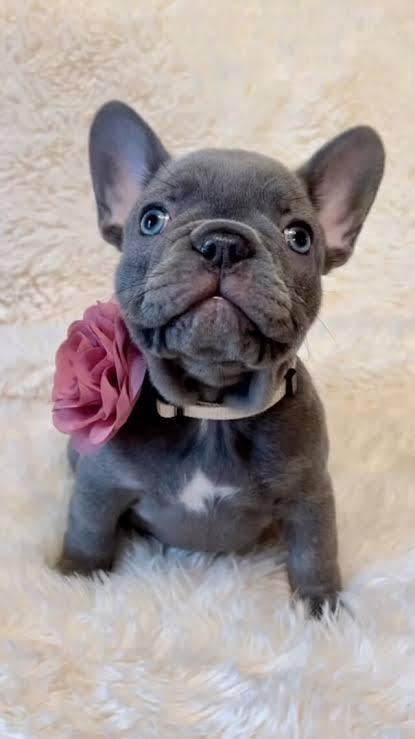puppy-dog: (54, 100, 388, 627)
